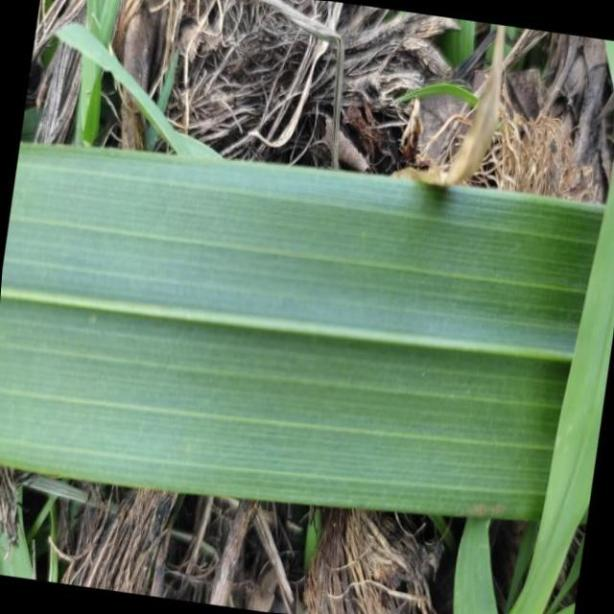Healthy: (0, 139, 614, 523)
